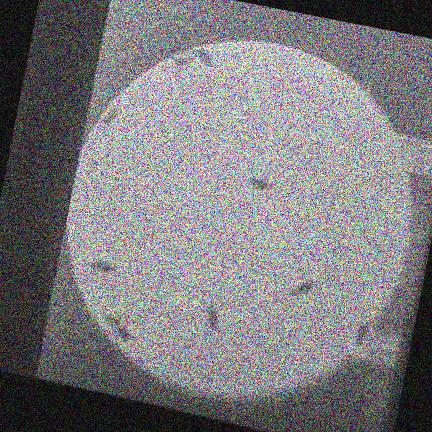fly: (289, 281, 315, 296), (354, 322, 369, 345), (195, 48, 213, 67), (205, 302, 217, 330), (88, 261, 114, 273), (99, 107, 116, 125), (113, 326, 132, 342), (248, 178, 272, 190), (171, 55, 194, 66), (102, 313, 119, 325)
